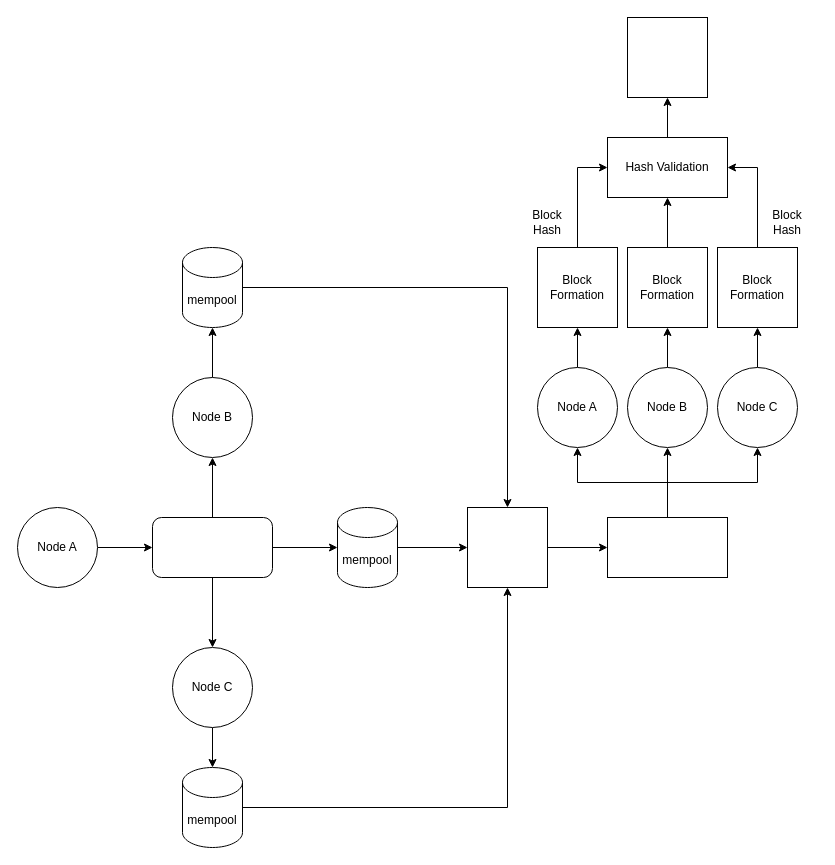
Some shapes in this 835 by 865 pixel diagram are drawn without their labels. The shapes that lost their labels are listed below. From the top down, each one's centre as x and y in pixels, then its label:
[667,57]: New Block
[212,547]: transaction
[507,547]: Transaction Balloting
[667,547]: Unified Transaction List
